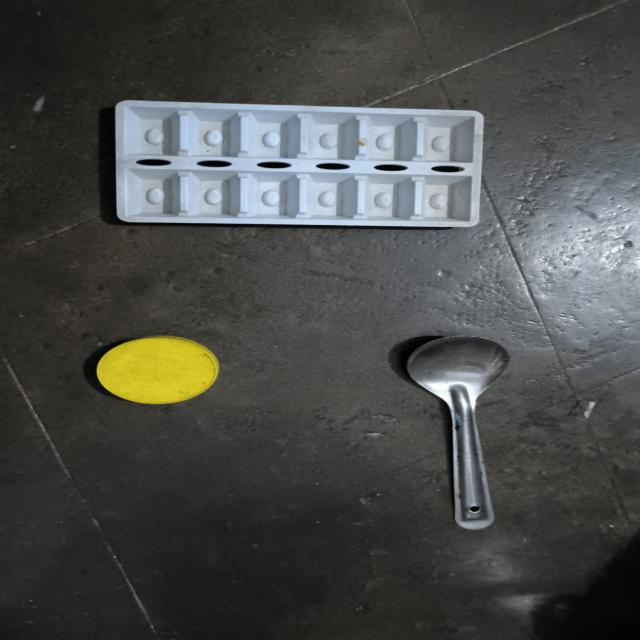metal: (363, 339, 536, 548)
plastic: (85, 82, 556, 264), (40, 314, 332, 454)
